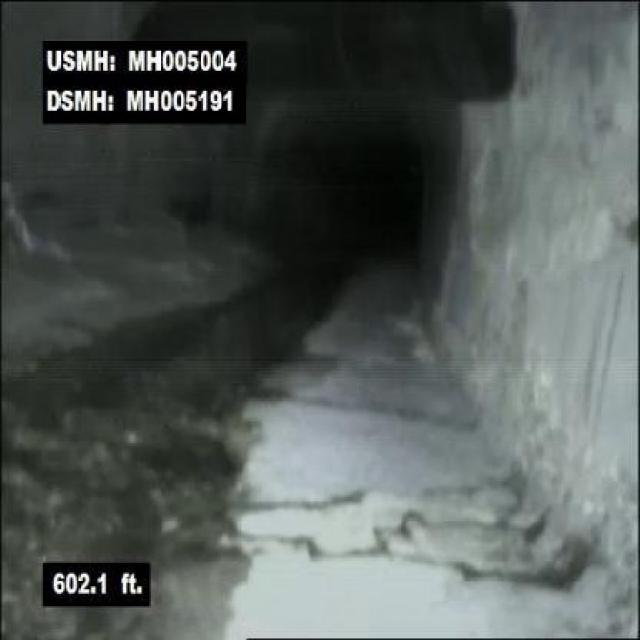Crack: (218, 422, 584, 603)
Utility intrusion: (267, 0, 560, 138)
